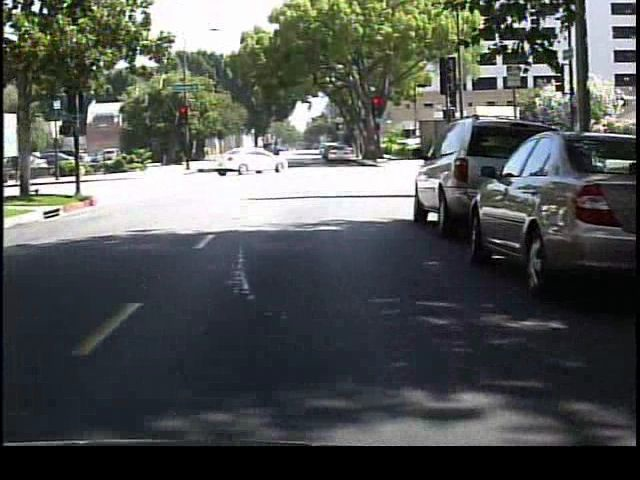person: (272, 140, 287, 171)
